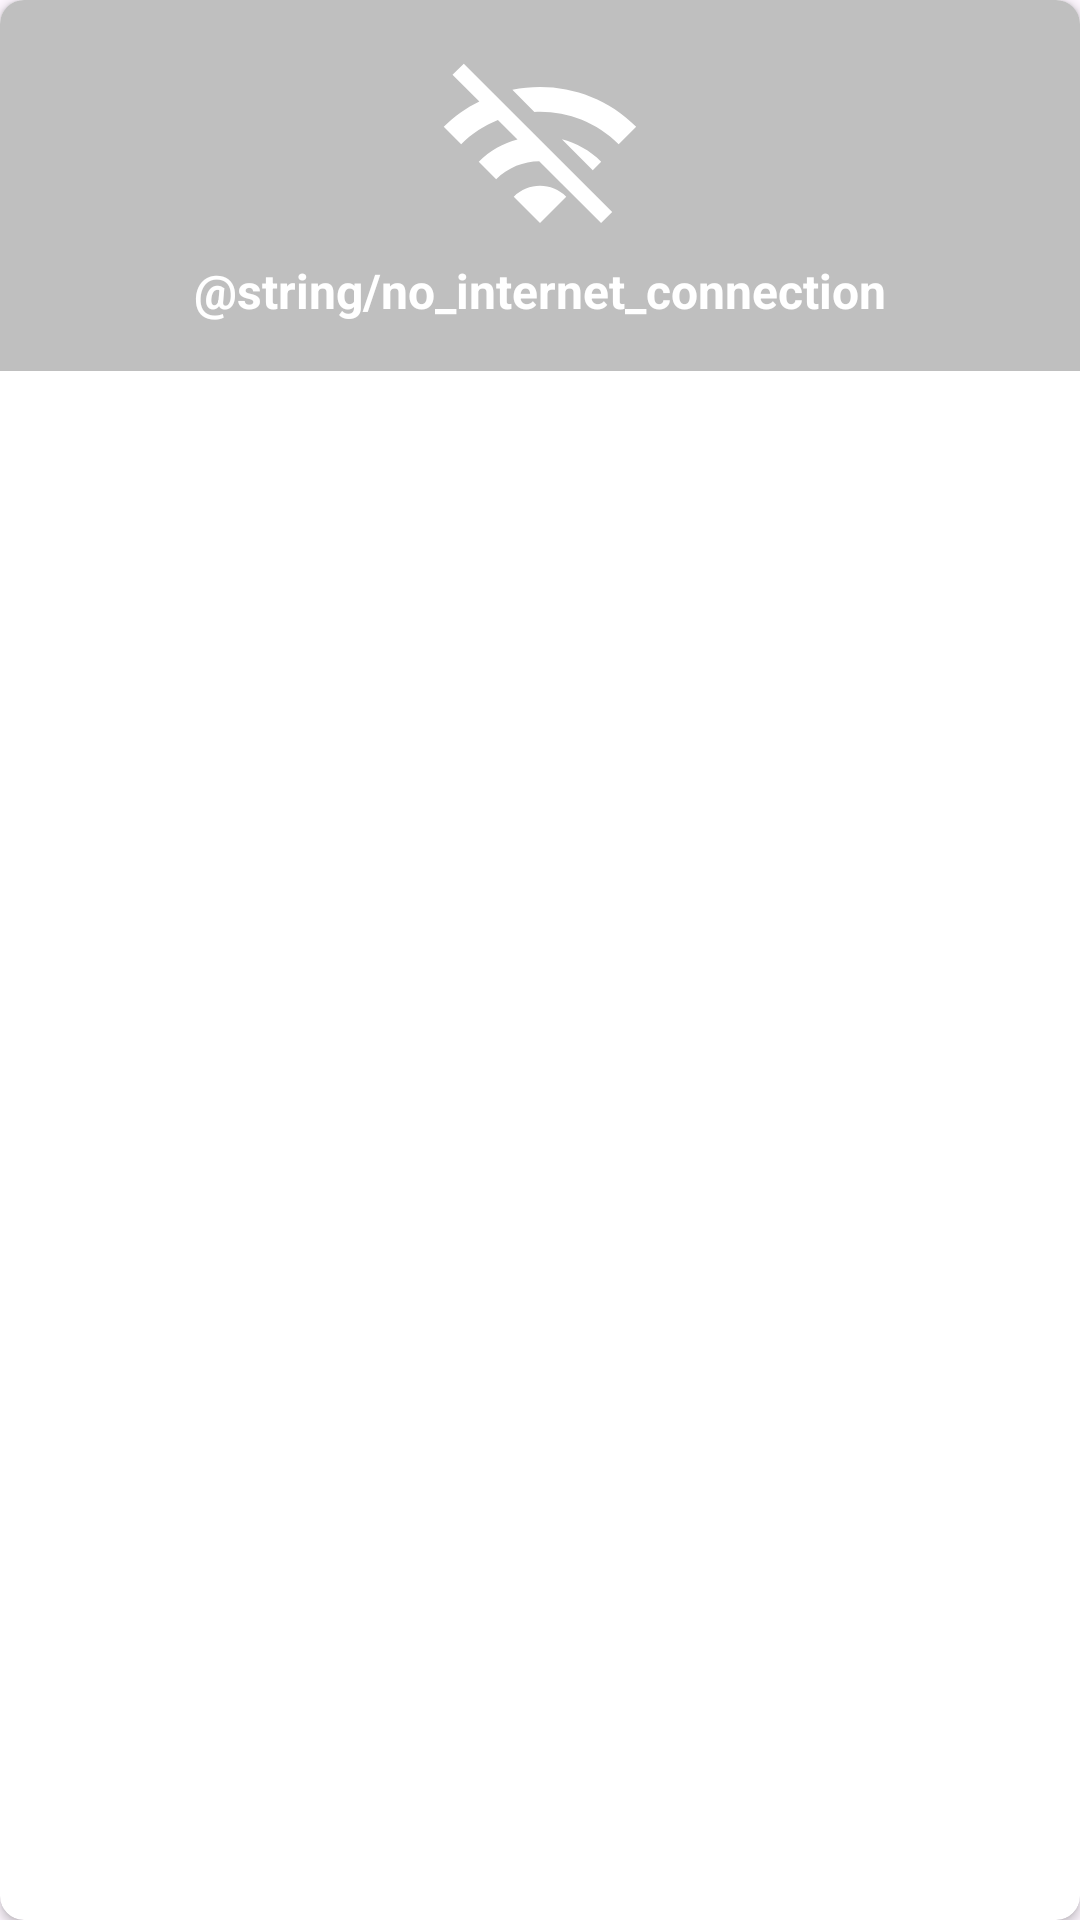

Named icons in this screenshot (1080×1920) and their bounding boxes, detection(x1, y1, x2, y2):
wifi: detection(444, 64, 636, 223)
